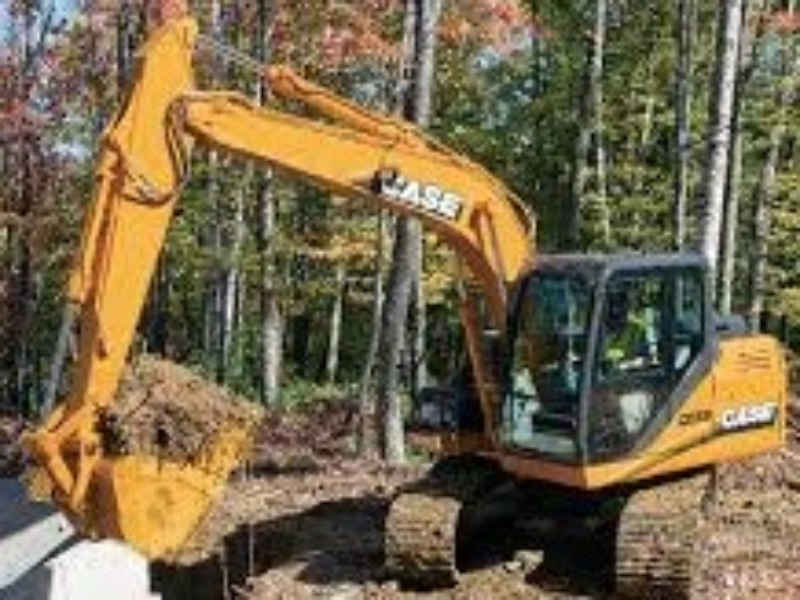wajueji: (382, 223, 798, 591)
